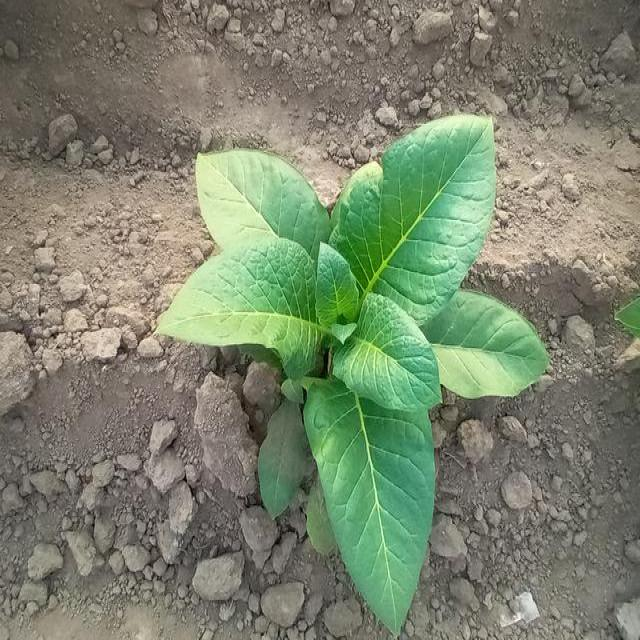crop: (167, 118, 535, 614)
